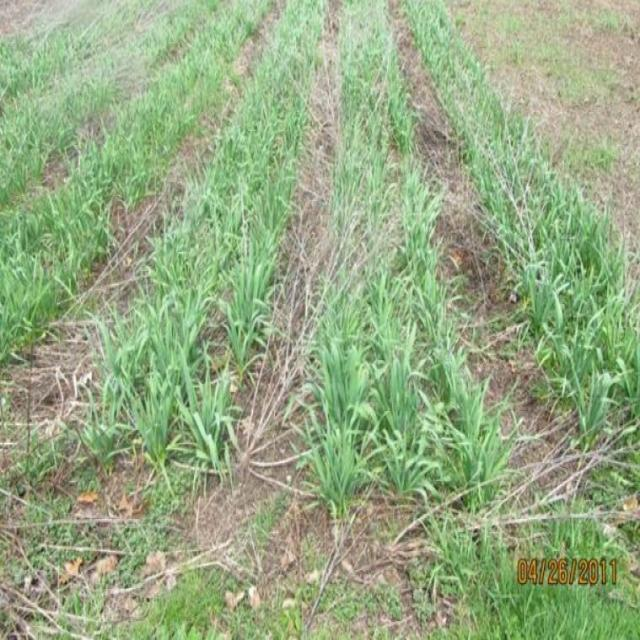row: (1, 3, 289, 439), (392, 1, 609, 508), (214, 2, 346, 502)
